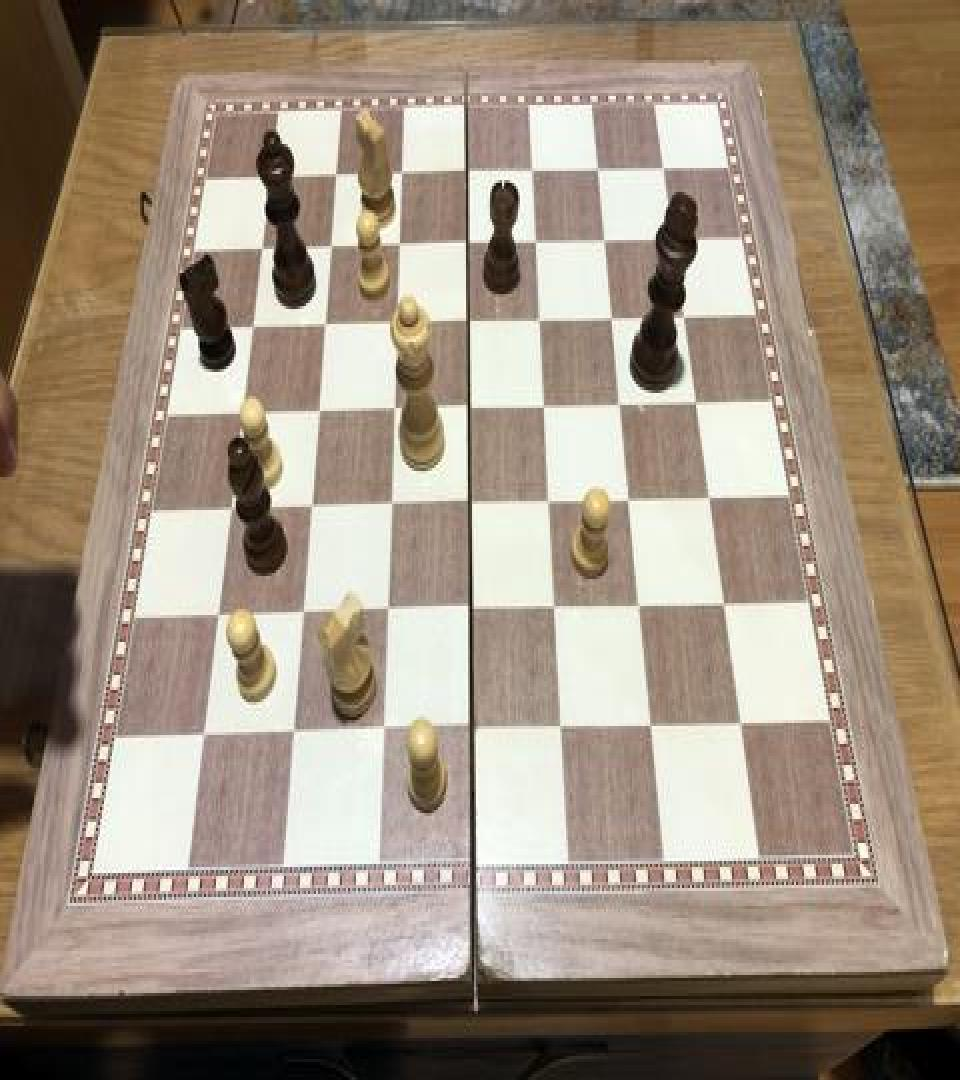xcorner: (459, 595, 483, 632), (206, 601, 230, 638), (549, 712, 573, 749), (281, 718, 305, 755), (652, 150, 676, 186), (586, 152, 610, 188), (520, 154, 544, 190), (454, 156, 478, 192), (389, 158, 413, 194), (323, 159, 347, 195), (257, 160, 281, 196), (662, 222, 686, 258), (593, 224, 617, 260), (524, 225, 548, 261), (455, 226, 479, 262), (386, 230, 410, 266), (318, 231, 342, 267), (249, 232, 273, 268), (673, 300, 697, 336), (600, 303, 624, 339), (528, 304, 552, 340), (456, 306, 480, 342), (384, 308, 408, 344), (312, 309, 336, 345), (240, 310, 264, 346), (685, 387, 709, 423), (609, 388, 633, 424), (533, 392, 557, 428), (457, 393, 481, 429), (381, 394, 405, 430), (305, 396, 329, 432), (230, 398, 254, 434), (698, 483, 722, 519), (618, 484, 642, 520), (538, 486, 562, 522), (458, 489, 482, 525), (378, 490, 402, 526), (298, 492, 322, 528), (218, 494, 242, 530), (713, 590, 737, 626), (628, 591, 652, 627), (543, 594, 567, 630), (374, 597, 398, 633), (290, 598, 314, 634), (729, 710, 753, 746), (639, 711, 663, 747), (460, 716, 484, 752), (370, 717, 394, 753), (192, 720, 216, 756)
